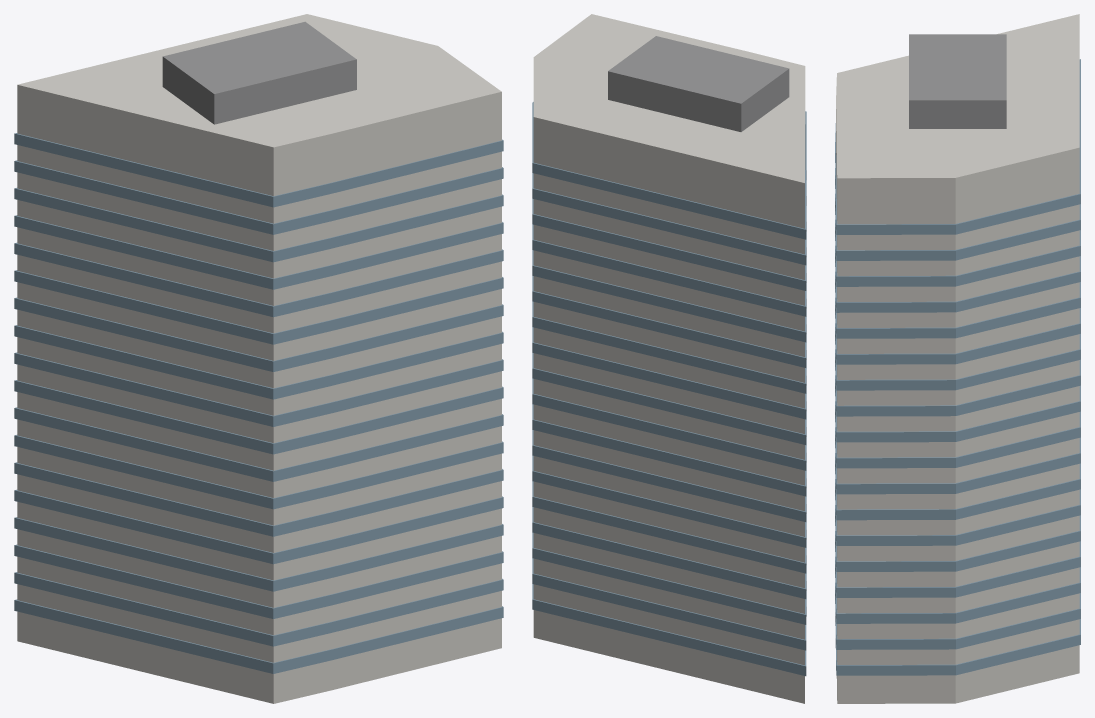
Rendered from landmark-basel-st-jakob-turm.e066987bb7.glb.
3 renders of one model, left to right at view 1: azimuth 30°, elevation 25°; view 2: azimuth 150°, elevation 25°; view 3: azimuth 270°, elevation 25°, orthographic. The views are drawn at different scales.
Parts seen in each view (by area): view 1: building; view 2: building; view 3: building.
Boxes of the visible parts, bbox=[...] form: building: bbox=[14, 14, 503, 703]; building: bbox=[532, 14, 806, 703]; building: bbox=[835, 14, 1080, 703].
Bounding box in the file's own units: 49.4 × 77 × 30.95.
